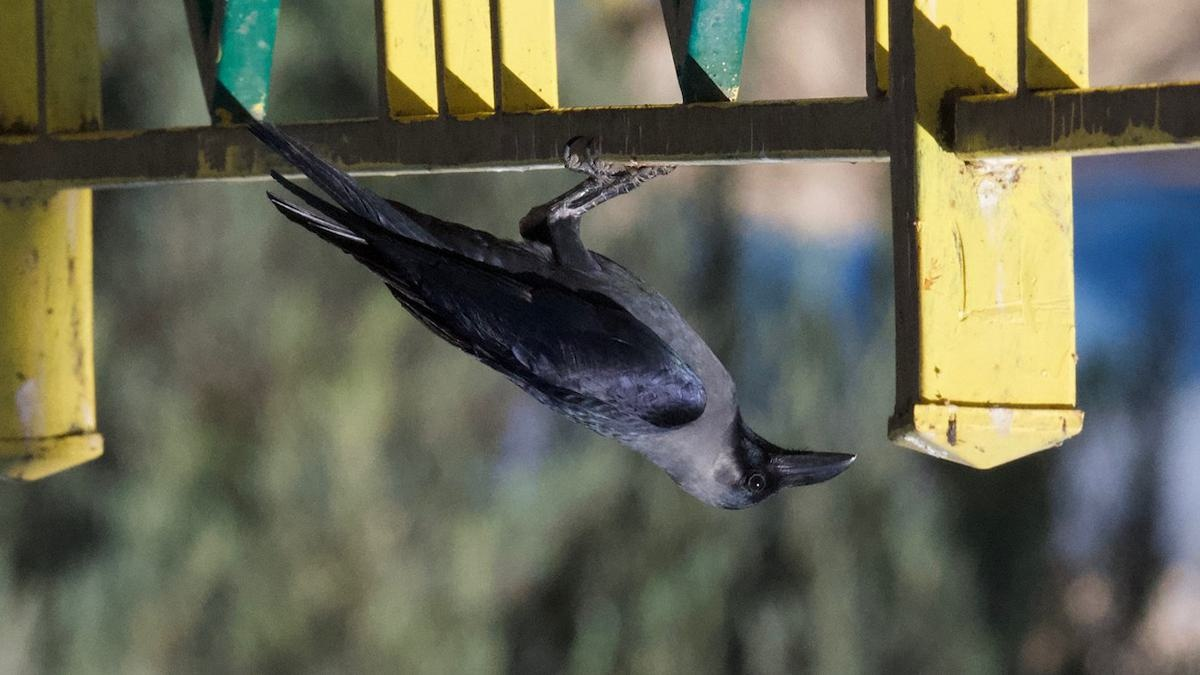crow: (256, 103, 869, 521)
